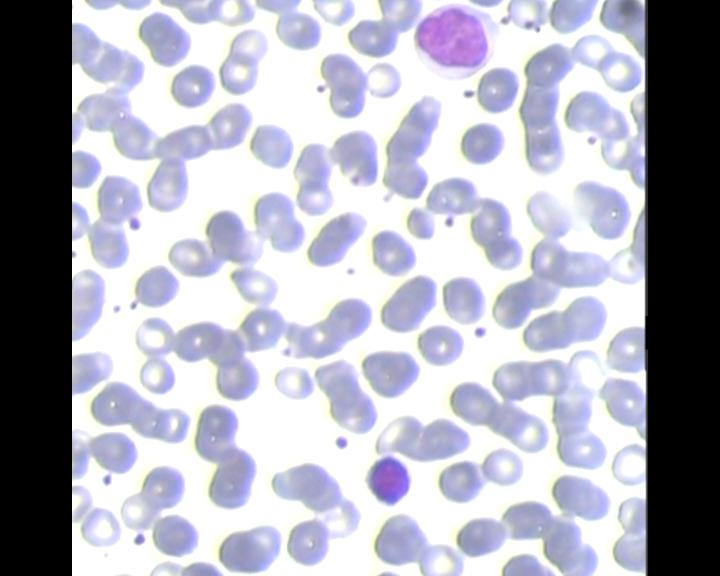lymp: (407, 2, 503, 80), (357, 455, 413, 507)
